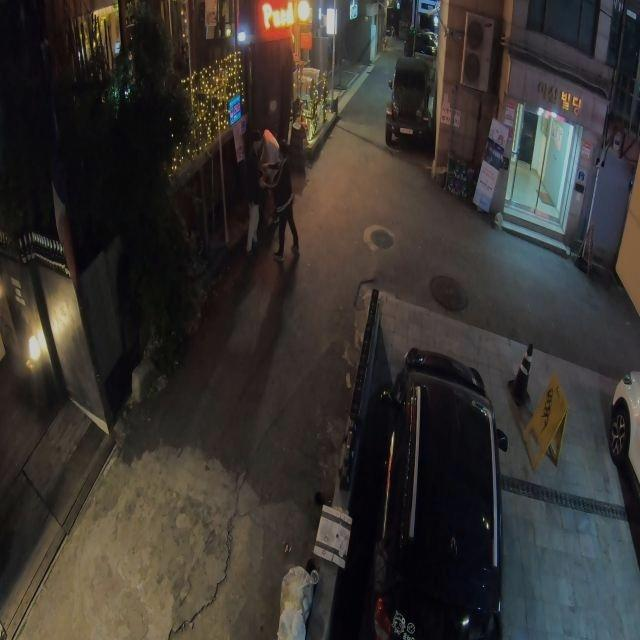fight: (244, 125, 305, 260)
